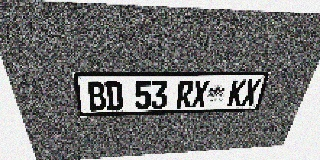3: (151, 81, 168, 109)
5: (135, 81, 151, 109)
B: (86, 81, 107, 111)
D: (104, 81, 123, 110)
K: (227, 80, 247, 106)
R: (176, 80, 194, 108)
X: (191, 80, 210, 108), (241, 80, 261, 106)
